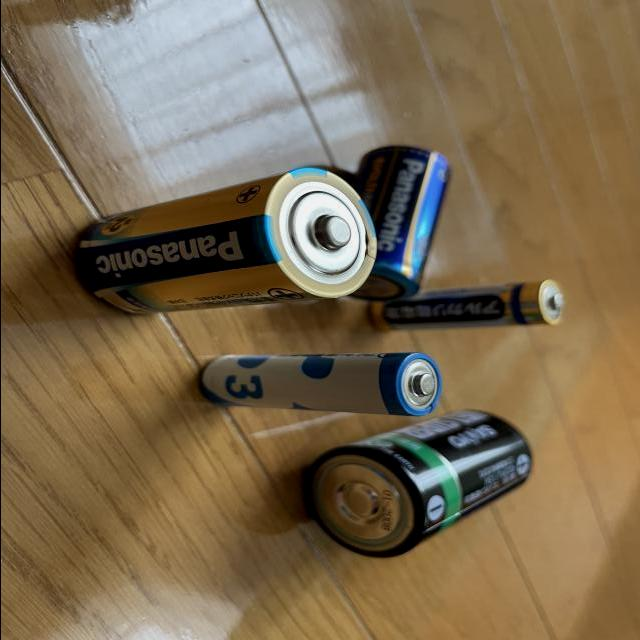AA: (188, 346, 464, 424)
AAA: (360, 276, 574, 346)
